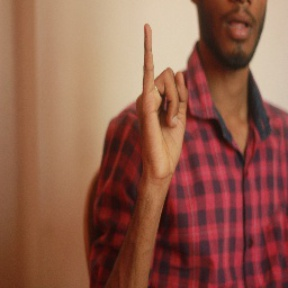I: (132, 21, 193, 167)
